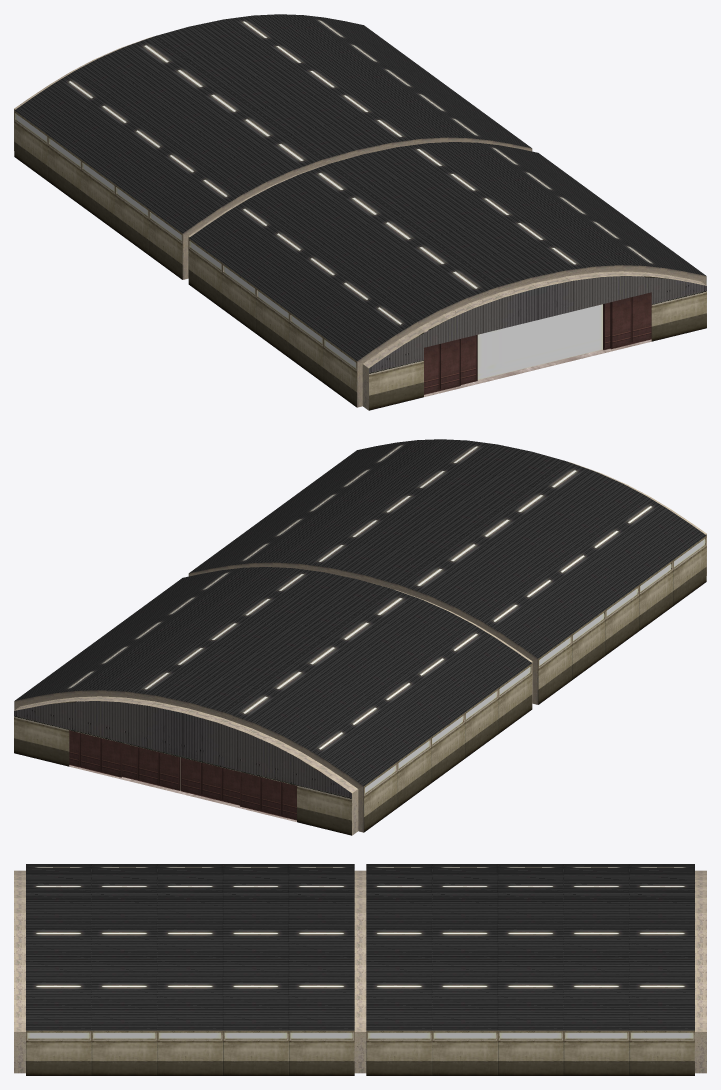
The model's file is hangar.obj.
3 views of the same model, one above another, from view 1: azimuth 30°, elevation 25°; view 2: azimuth 150°, elevation 25°; view 3: azimuth 270°, elevation 25° (orthographic). The views are drawn at different scales.
Visible parts, largest first — view 1: Hangar_HangarMaterial_0, WindowsLightLarge_HangarTransparentMaterial_0, WindowsLight04_HangarTransparentMaterial_0, WindowsLight03_HangarTransparentMaterial_0; view 2: Hangar_HangarMaterial_0, WindowsLight03_HangarTransparentMaterial_0, WindowsLight04_HangarTransparentMaterial_0; view 3: Hangar_HangarMaterial_0, WindowsLight01_HangarTransparentMaterial_0, WindowsLight02_HangarTransparentMaterial_0.
Part boxes in pixels (<box>): Hangar_HangarMaterial_0: <box>14,14,706,410</box>; WindowsLightLarge_HangarTransparentMaterial_0: <box>477,304,602,379</box>; WindowsLight04_HangarTransparentMaterial_0: <box>15,114,181,240</box>; WindowsLight03_HangarTransparentMaterial_0: <box>190,241,355,368</box>; Hangar_HangarMaterial_0: <box>14,439,706,835</box>; WindowsLight03_HangarTransparentMaterial_0: <box>539,539,705,665</box>; WindowsLight04_HangarTransparentMaterial_0: <box>365,667,530,793</box>; Hangar_HangarMaterial_0: <box>14,864,706,1075</box>; WindowsLight01_HangarTransparentMaterial_0: <box>368,1032,693,1038</box>; WindowsLight02_HangarTransparentMaterial_0: <box>27,1032,352,1038</box>.
Bounding box in the file's own units: 59.99 × 16.03 × 105.
